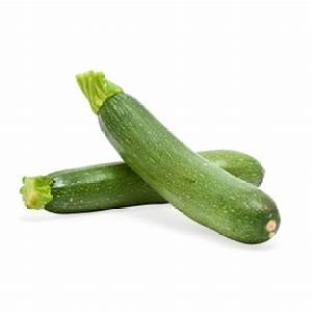Zucchini: (77, 72, 279, 243), (21, 163, 165, 213)
